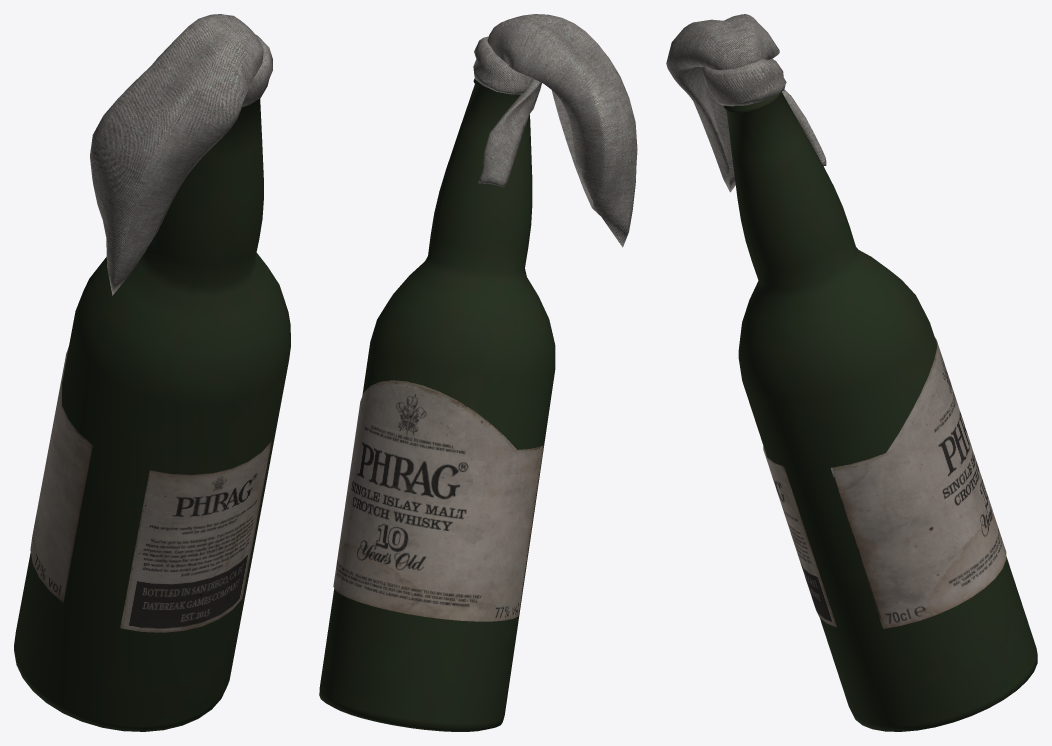
The model's file is Weapons_MolotovCocktail_LOD0.glb.
The picture shows the model from 3 angles, left to right: view 1: azimuth 30°, elevation 25°; view 2: azimuth 150°, elevation 25°; view 3: azimuth 270°, elevation 25°; orthographic projection. The views are drawn at different scales.
Visible parts, largest first — view 1: Hoodie; view 2: Hoodie; view 3: Hoodie.
Part boxes in pixels (x1,y1,x2,y2): Hoodie: (14,14,290,731); Hoodie: (319,14,637,731); Hoodie: (666,14,1037,731).
Bounding box in the file's own units: 0.1098 × 0.3429 × 0.1694.
Materials: 1 (1 with a texture image).
